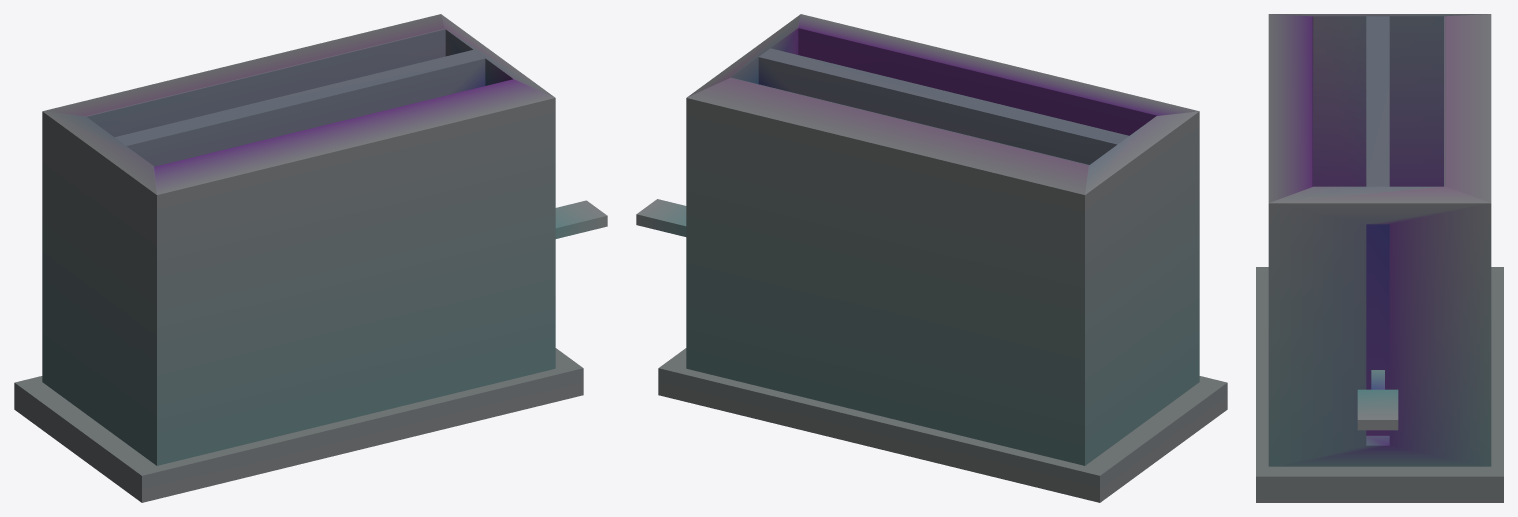
The picture shows the model from 3 angles, left to right: view 1: azimuth 30°, elevation 25°; view 2: azimuth 150°, elevation 25°; view 3: azimuth 270°, elevation 25°; orthographic projection. The views are drawn at different scales.
Parts seen in each view (by area): view 1: slotted_body, base, tab_paddle; view 2: slotted_body, base, tab_paddle; view 3: slotted_body, base, tab_paddle.
Part boxes in pixels (x1,y1,x2,y2): slotted_body: (42,14,555,465); base: (14,348,583,502); tab_paddle: (555,200,607,238); slotted_body: (686,14,1199,465); base: (658,348,1227,502); tab_paddle: (636,199,686,236); slotted_body: (1268,14,1491,466); base: (1256,267,1503,502); tab_paddle: (1357,370,1398,430).
Bounding box in the file's own units: 0.3 × 0.169 × 0.1279.
